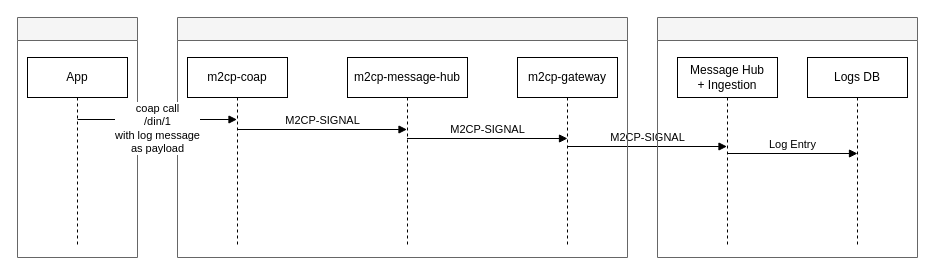
Image size: 935x275. Some labels were removed from this diagram. Here are the shapes that lost their labels. From the top down, the box of each, then its label:
(16, 16, 138, 258): RTOS Device
(176, 16, 628, 258): Linux Device
(656, 16, 918, 258): Backend
